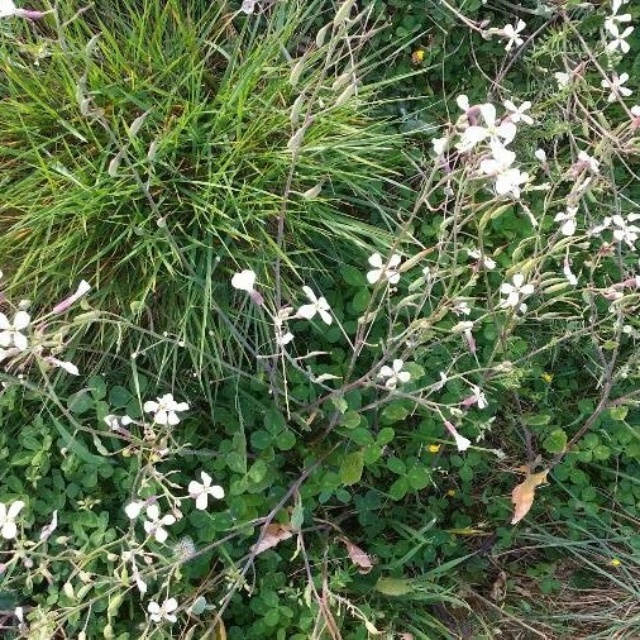obstacle: (200, 99, 522, 458), (32, 292, 300, 600)
